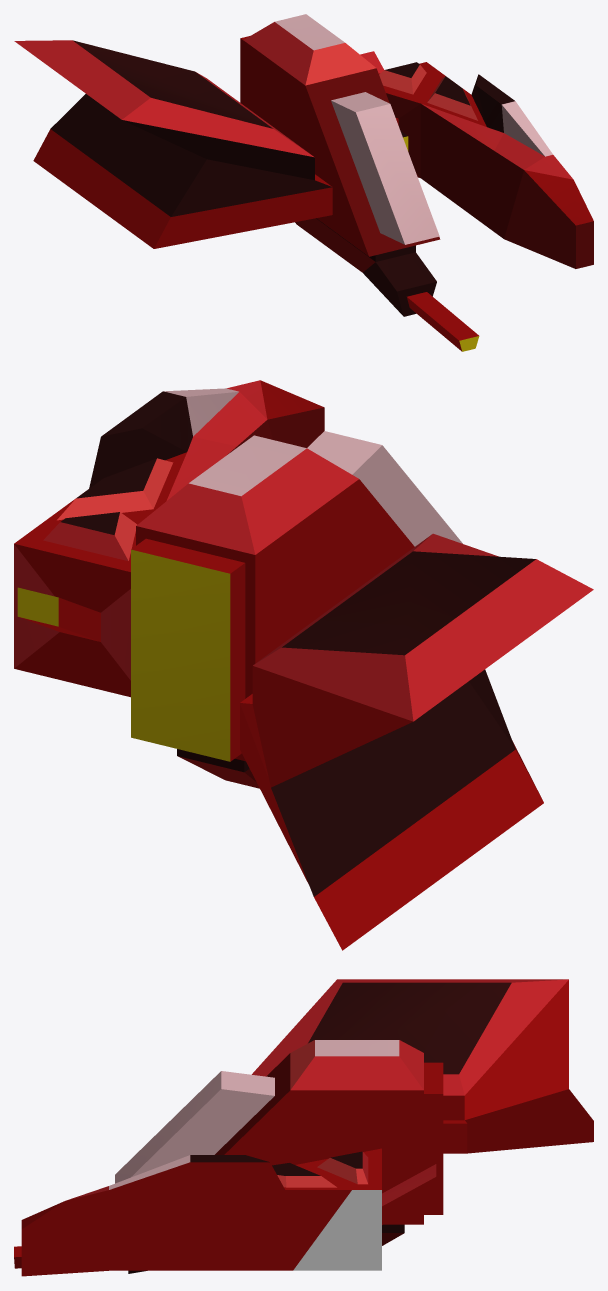
File: ship.glb
3 renders of one model, top to bottom at view 1: azimuth 30°, elevation 25°; view 2: azimuth 150°, elevation 25°; view 3: azimuth 270°, elevation 25°, orthographic. The views are drawn at different scales.
Visible parts, largest first — view 1: Cube; view 2: Cube; view 3: Cube.
Part boxes in pixels (bbox=[...]): Cube: bbox=[14, 14, 593, 351]; Cube: bbox=[14, 380, 593, 950]; Cube: bbox=[14, 979, 593, 1276].
Size of the model in its own units: 5.58 by 3.34 by 8.
